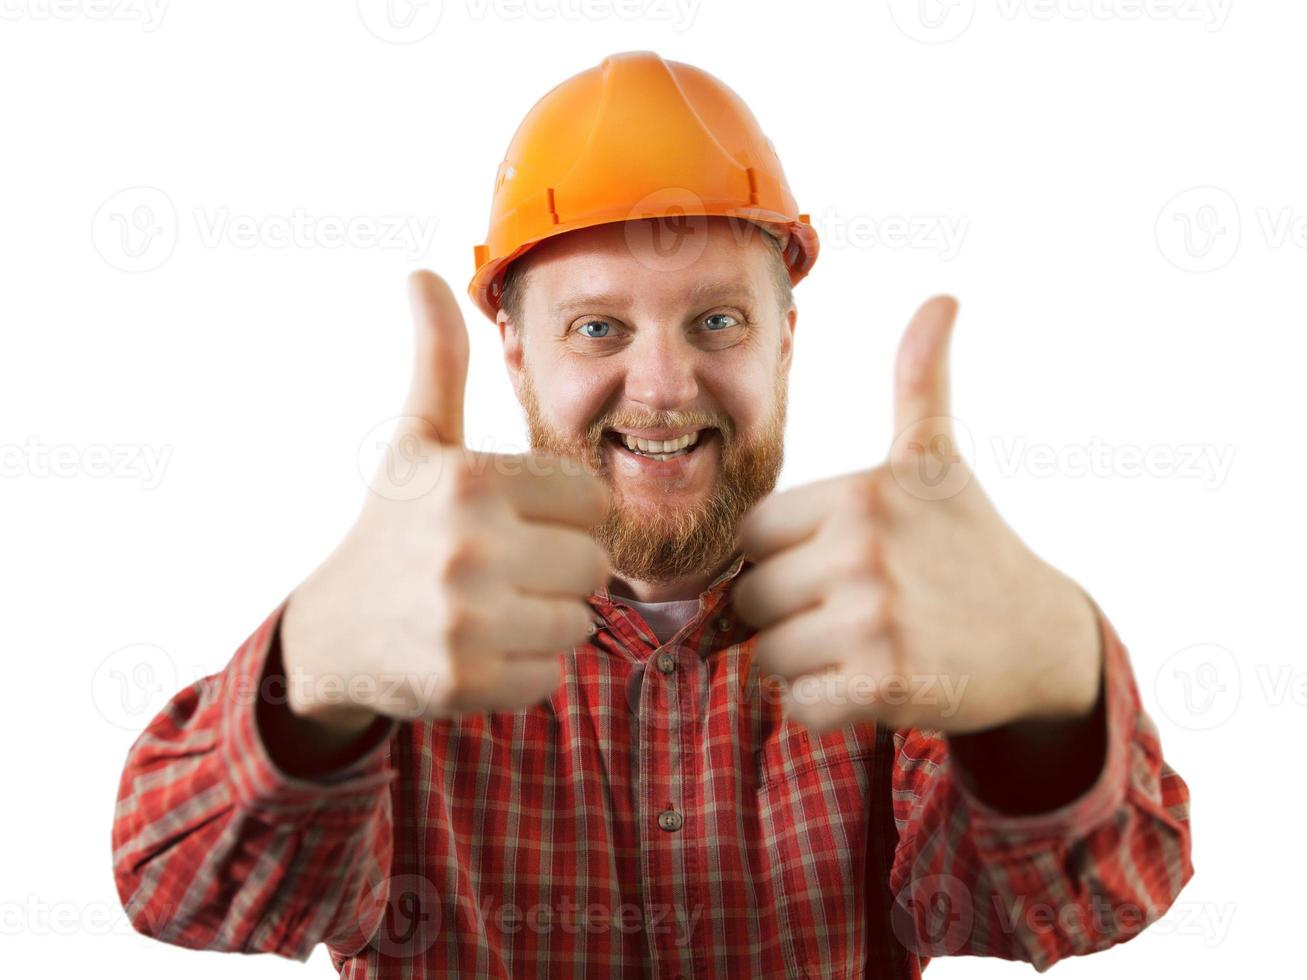casque: (268, 15, 1149, 779)
